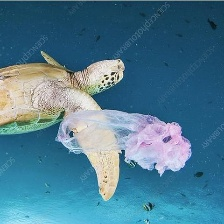plastic_bag: (50, 106, 194, 178)
